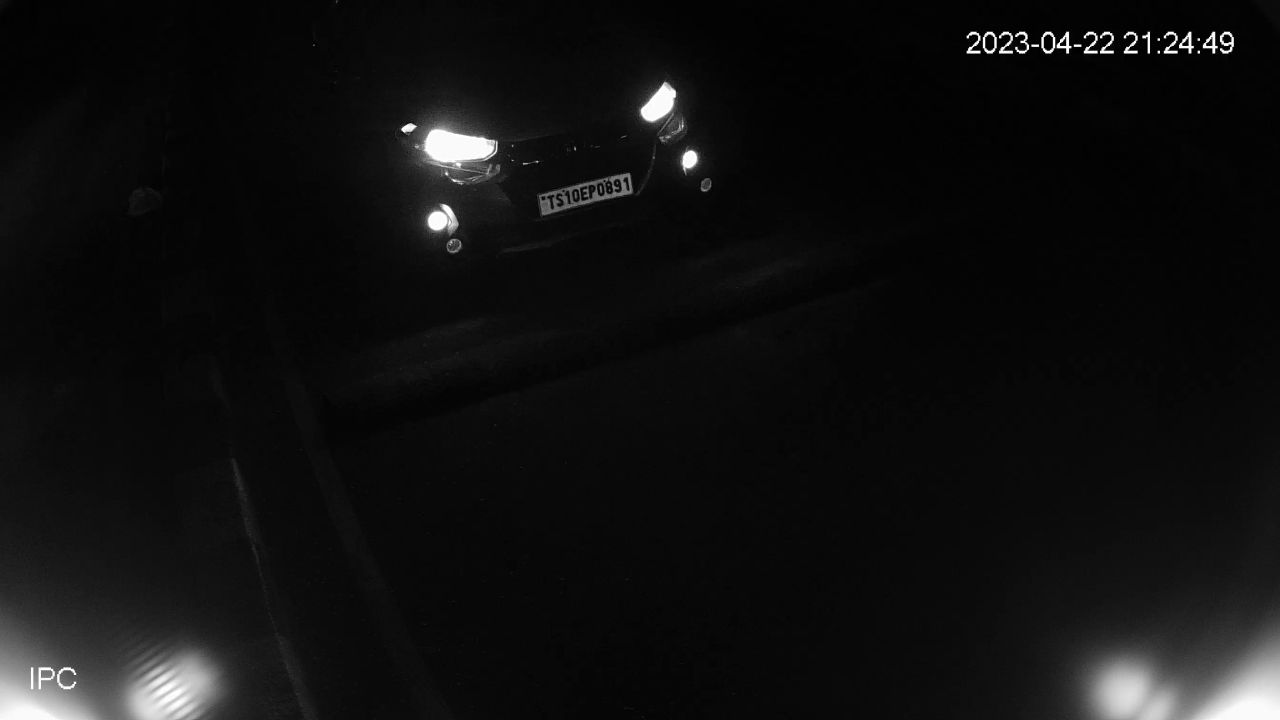license_plate: (535, 167, 637, 222)
